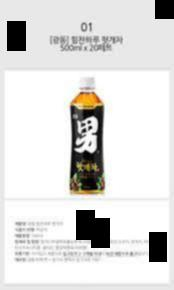heotgaecha: (69, 75, 104, 195)
